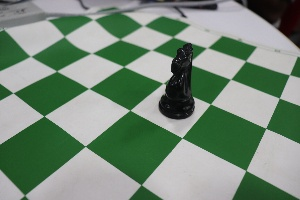black_horse: (158, 37, 203, 122)
